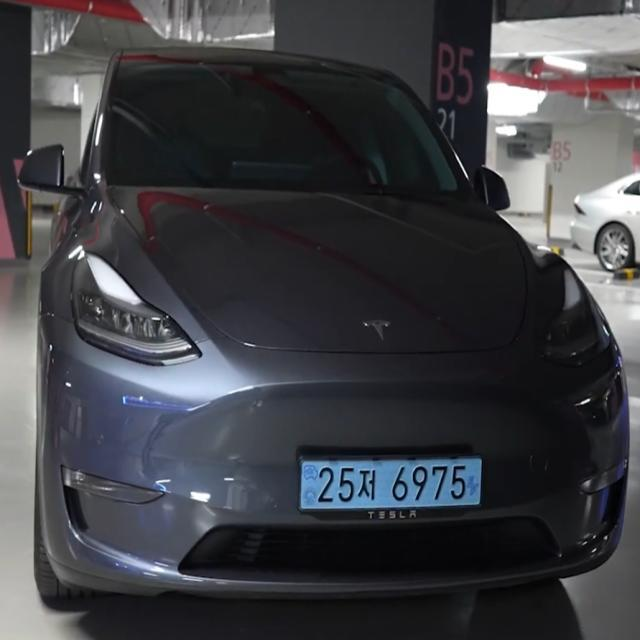car: (276, 438, 515, 535)
carev: (299, 456, 319, 516), (466, 456, 487, 513)
